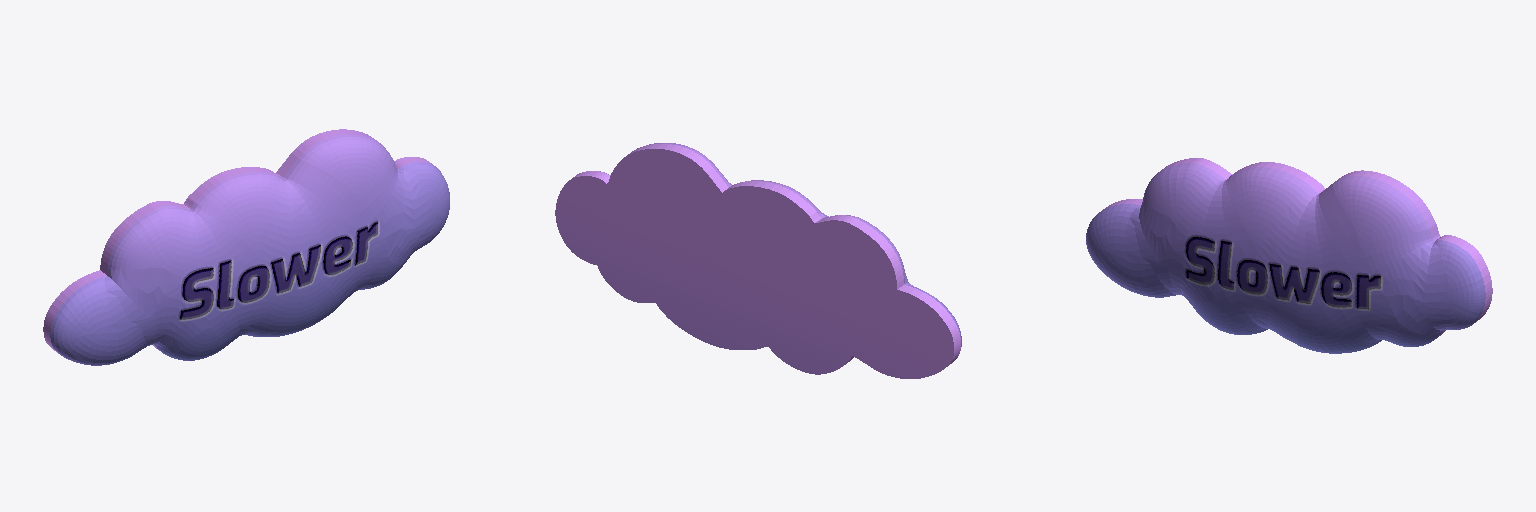
The picture shows the model from 3 angles: view 1: azimuth 30°, elevation 25°; view 2: azimuth 150°, elevation 25°; view 3: azimuth 330°, elevation 25°; orthographic projection.
Visible parts, largest first — view 1: cloud2_flat; view 2: cloud2_flat; view 3: cloud2_flat.
Boxes of the visible parts, <box> form: cloud2_flat: <box>43,129,449,365</box>; cloud2_flat: <box>555,143,961,378</box>; cloud2_flat: <box>1086,158,1492,353</box>.
Bounding box in the file's own units: 19.47 × 8.83 × 2.24.
Materials: 1 (1 with a texture image).